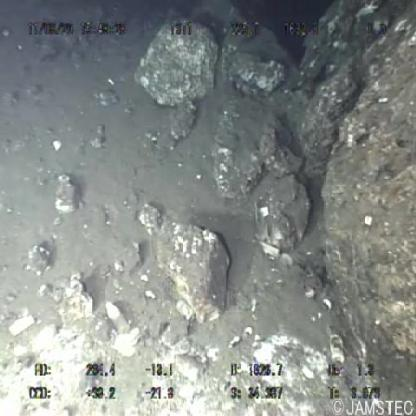Rác: (252, 200, 283, 263), (102, 297, 132, 335)
